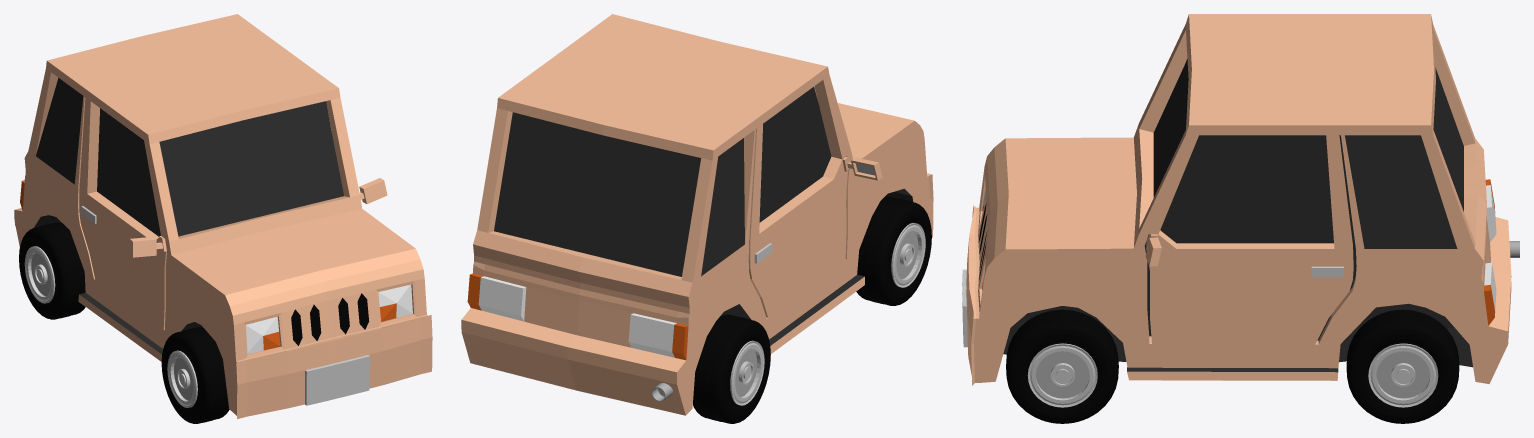
3 views of the same model, side by side, from view 1: azimuth 30°, elevation 25°; view 2: azimuth 150°, elevation 25°; view 3: azimuth 270°, elevation 25° (orthographic). The views are drawn at different scales.
Visible parts, largest first — view 1: BODY, WHEEL.001, WHEEL.004; view 2: BODY, WHEEL.004, WHEEL.001; view 3: BODY, WHEEL.003, WHEEL.002.
Boxes of the visible parts, <box> form: BODY: <box>14,14,432,418</box>; WHEEL.001: <box>161,327,229,423</box>; WHEEL.004: <box>19,223,85,319</box>; BODY: <box>461,14,933,415</box>; WHEEL.004: <box>693,314,770,423</box>; WHEEL.001: <box>856,196,931,305</box>; BODY: <box>962,14,1511,385</box>; WHEEL.003: <box>1006,309,1118,423</box>; WHEEL.002: <box>1346,309,1459,423</box>.
Size of the model in its own units: 131 by 120 by 208.
